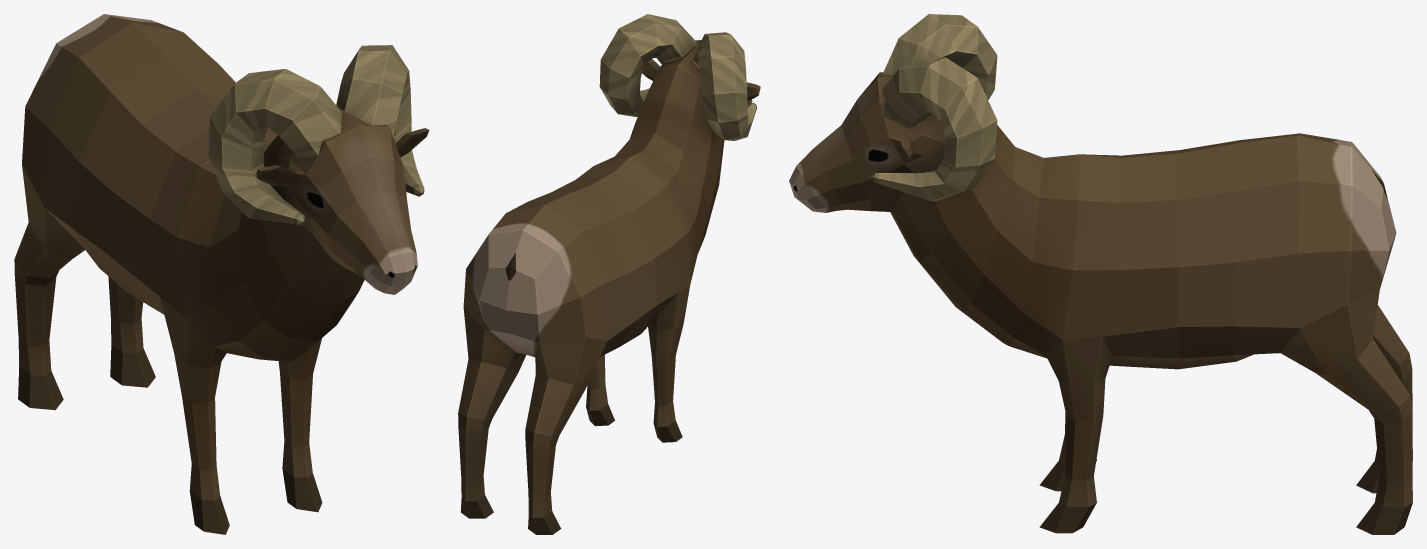
File: BigSheep.gltf
3 renders of one model, left to right at view 1: azimuth 30°, elevation 25°; view 2: azimuth 150°, elevation 25°; view 3: azimuth 270°, elevation 25°, orthographic. The views are drawn at different scales.
Parts seen in each view (by area): view 1: BighornSheep_mesh; view 2: BighornSheep_mesh; view 3: BighornSheep_mesh.
Boxes of the visible parts, x1=… form: BighornSheep_mesh: x1=14, y1=14, x2=429, y2=534; BighornSheep_mesh: x1=458, y1=14, x2=760, y2=534; BighornSheep_mesh: x1=789, y1=14, x2=1412, y2=534.
Bounding box in the file's own units: 2.46 × 6.21 × 7.53.
Materials: 1 (1 with a texture image).
